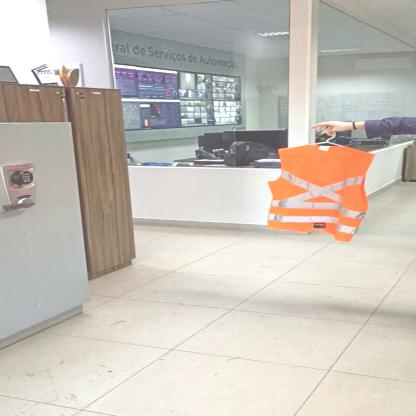colete: (264, 145, 374, 240)
